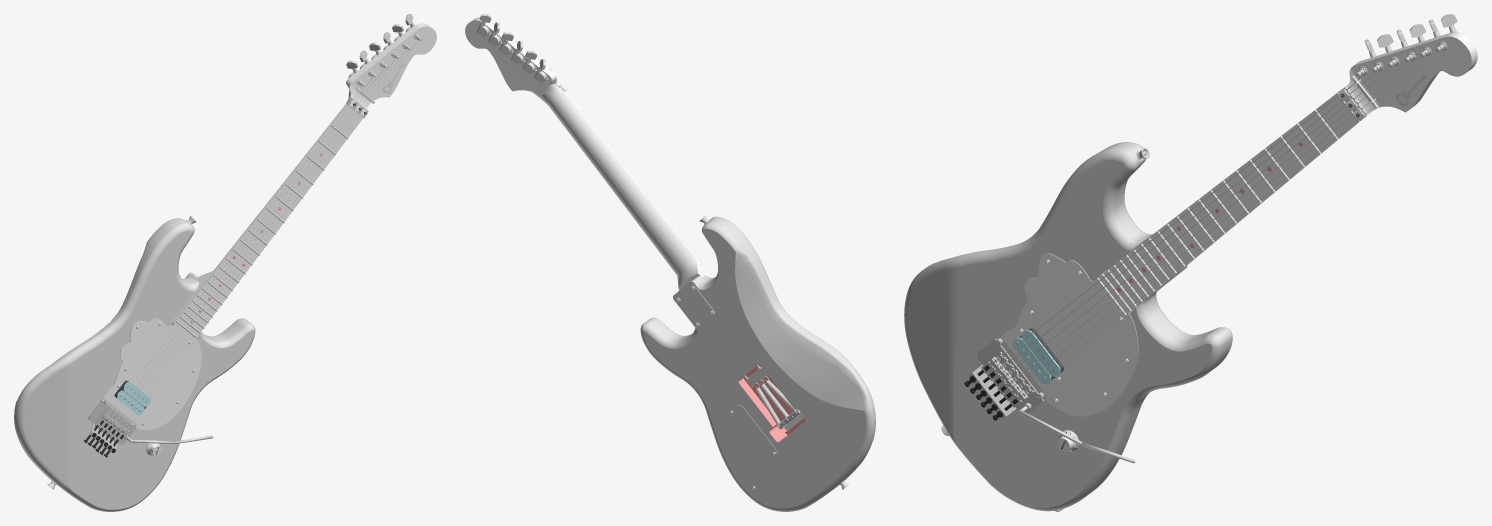
Rendered from guitar.fbx.
3 views of the same model, side by side, from view 1: azimuth 30°, elevation 25°; view 2: azimuth 150°, elevation 25°; view 3: azimuth 330°, elevation 25° (orthographic). The views are drawn at different scales.
Parts seen in each view (by area): view 1: Group_006, Group_014, Group_152, Group_008, Group_009, Group_121; view 2: Group_006, Group_014, Group_146, Group#110_001, Group_124; view 3: Group_006, Group_014, Group_152, Group_008, Group_009, Group_121.
Boxes of the visible parts, <box> form: Group_006: <box>14,218,255,511</box>; Group_014: <box>172,23,436,340</box>; Group_152: <box>103,318,201,429</box>; Group_008: <box>103,40,418,434</box>; Group_009: <box>84,399,136,457</box>; Group_121: <box>114,380,150,415</box>; Group_006: <box>640,216,875,511</box>; Group_014: <box>465,17,713,290</box>; Group_146: <box>724,405,777,490</box>; Group#110_001: <box>738,364,805,442</box>; Group_124: <box>675,284,715,328</box>; Group_006: <box>904,142,1232,511</box>; Group_014: <box>1094,32,1477,317</box>; Group_152: <box>1001,253,1138,416</box>; Group_008: <box>989,51,1441,399</box>; Group_009: <box>964,338,1044,420</box>; Group_121: <box>1012,328,1063,384</box>.
Size of the model in its own units: 30.75 by 30.05 by 2.84.
